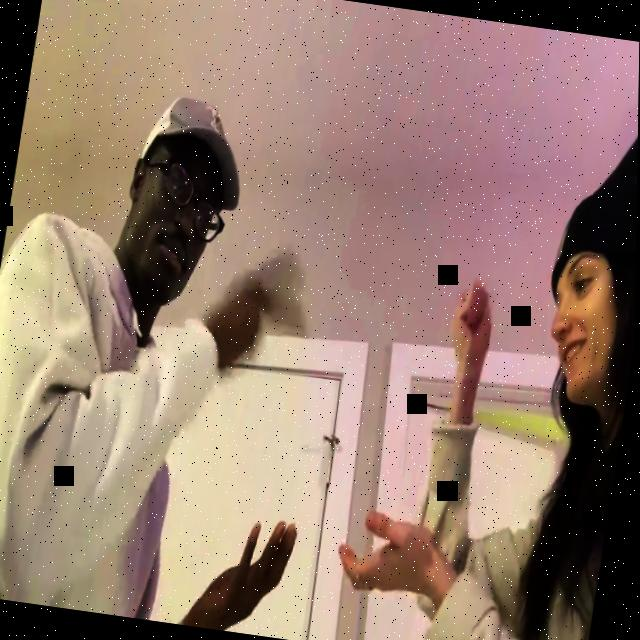Rock: (447, 281, 500, 383)
Scissors: (206, 245, 316, 382)
